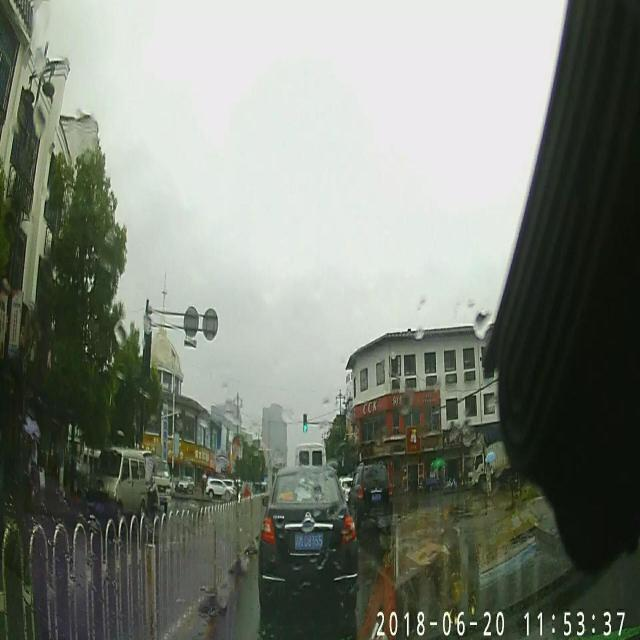car: (256, 466, 358, 608), (86, 448, 150, 524), (347, 460, 392, 526), (470, 446, 514, 492), (295, 444, 327, 502), (144, 452, 170, 509), (206, 475, 235, 497), (177, 474, 196, 492)
